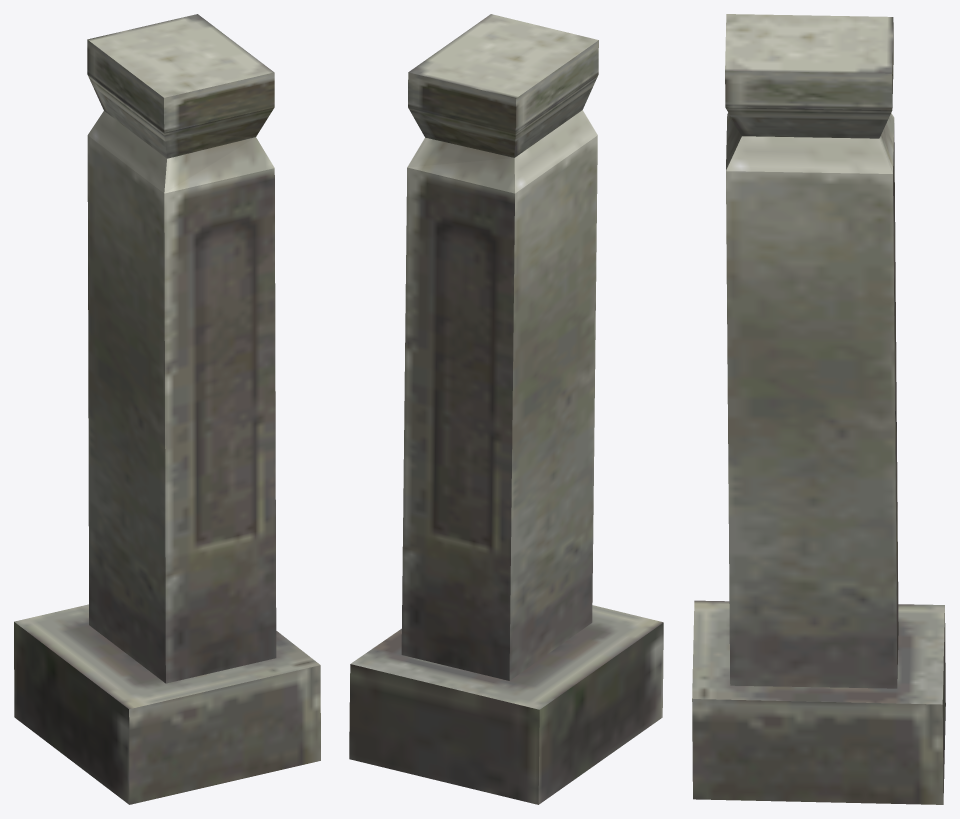
Rendered from xs__Item_louti_3.FBX.
The picture shows the model from 3 angles, left to right: view 1: azimuth 30°, elevation 25°; view 2: azimuth 150°, elevation 25°; view 3: azimuth 270°, elevation 25°; orthographic projection. The views are drawn at different scales.
Visible parts, largest first — view 1: xs__Item_louti_3; view 2: xs__Item_louti_3; view 3: xs__Item_louti_3.
Boxes of the visible parts, <box> form: xs__Item_louti_3: <box>14,14,320,804</box>; xs__Item_louti_3: <box>349,14,663,804</box>; xs__Item_louti_3: <box>692,14,945,804</box>.
Size of the model in its own units: 79.6 by 263 by 84.56.
